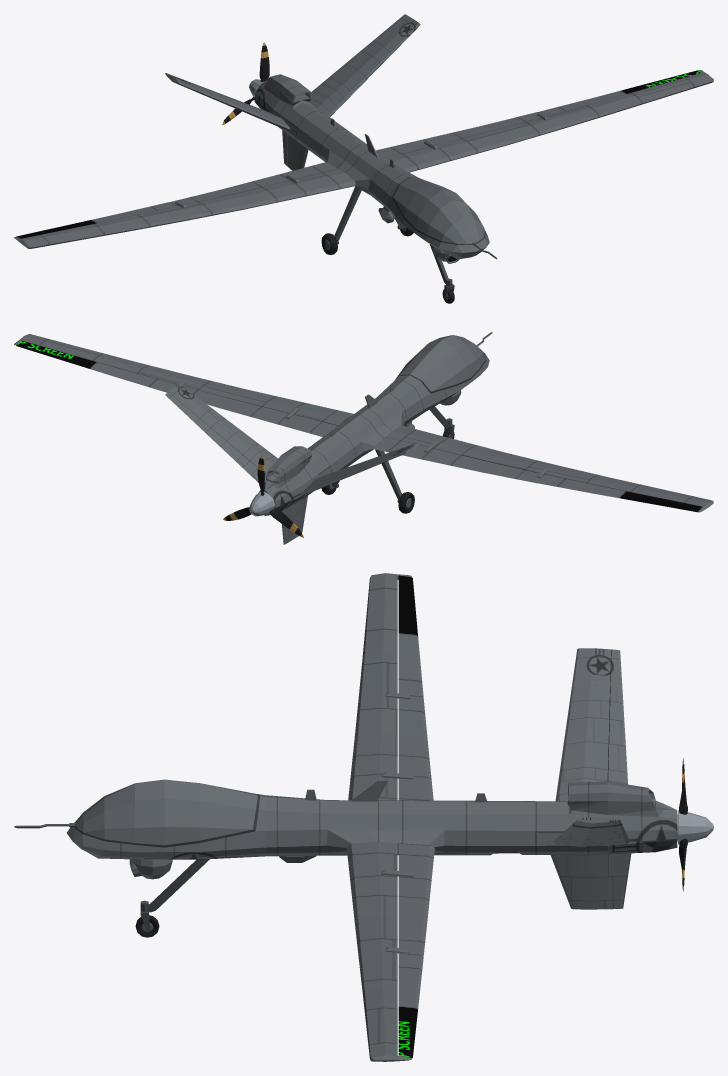
File: SM_Veh_Drone_01.fbx
The picture shows the model from 3 angles, top to bottom: view 1: azimuth 30°, elevation 25°; view 2: azimuth 150°, elevation 25°; view 3: azimuth 270°, elevation 25°; orthographic projection. The views are drawn at different scales.
Parts seen in each view (by area): view 1: SM_Veh_Drone_01, SM_Veh_Drone_Flap_l_01, SM_Veh_Drone_Flap_r_01, SM_Veh_Drone_Flap_l_02, SM_Veh_Drone_Flap_r_02, SM_Veh_Drone_Flap_Tail_l, SM_Veh_Drone_Prop_01; view 2: SM_Veh_Drone_01, SM_Veh_Drone_Flap_r_01, SM_Veh_Drone_Flap_l_01, SM_Veh_Drone_Flap_l_02, SM_Veh_Drone_Flap_r_02, SM_Veh_Drone_Prop_01, SM_Veh_Drone_Flap_Tail_l, SM_Veh_Drone_Flap_Tail_r; view 3: SM_Veh_Drone_01, SM_Veh_Drone_Flap_l_01, SM_Veh_Drone_Flap_r_01, SM_Veh_Drone_Flap_r_02, SM_Veh_Drone_Flap_l_02, SM_Veh_Drone_Flap_Tail_r, SM_Veh_Drone_Prop_01, SM_Veh_Drone_Flap_Bottom_01, SM_Veh_Drone_Wheel_Arm_f.
Part boxes in pixels (x1,y1,x2,y2): SM_Veh_Drone_01: (14, 16, 713, 259); SM_Veh_Drone_Flap_l_01: (376, 112, 540, 157); SM_Veh_Drone_Flap_r_01: (170, 162, 337, 206); SM_Veh_Drone_Flap_l_02: (538, 70, 701, 116); SM_Veh_Drone_Flap_r_02: (16, 202, 177, 238); SM_Veh_Drone_Flap_Tail_l: (309, 14, 407, 102); SM_Veh_Drone_Prop_01: (222, 42, 269, 124); SM_Veh_Drone_01: (14, 332, 713, 541); SM_Veh_Drone_Flap_r_01: (373, 437, 544, 483); SM_Veh_Drone_Flap_l_01: (183, 386, 337, 436); SM_Veh_Drone_Flap_l_02: (16, 340, 176, 392); SM_Veh_Drone_Flap_r_02: (537, 474, 701, 512); SM_Veh_Drone_Prop_01: (223, 455, 303, 537); SM_Veh_Drone_Flap_Tail_l: (165, 392, 266, 482); SM_Veh_Drone_Flap_Tail_r: (299, 450, 408, 496); SM_Veh_Drone_01: (14, 573, 677, 1061); SM_Veh_Drone_Flap_l_01: (398, 843, 434, 956); SM_Veh_Drone_Flap_r_01: (398, 696, 433, 800); SM_Veh_Drone_Flap_r_02: (398, 575, 423, 697); SM_Veh_Drone_Flap_l_02: (398, 953, 423, 1058); SM_Veh_Drone_Flap_Tail_r: (607, 649, 627, 784); SM_Veh_Drone_Prop_01: (677, 758, 713, 891); SM_Veh_Drone_Flap_Bottom_01: (610, 853, 631, 909); SM_Veh_Drone_Wheel_Arm_f: (140, 859, 209, 930).
Size of the model in its own units: 1941 by 383 by 1185.
